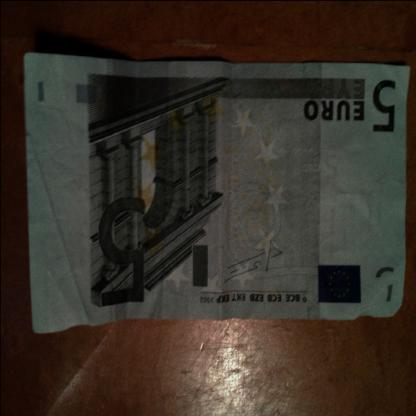euro_banknote: (23, 59, 407, 340)
